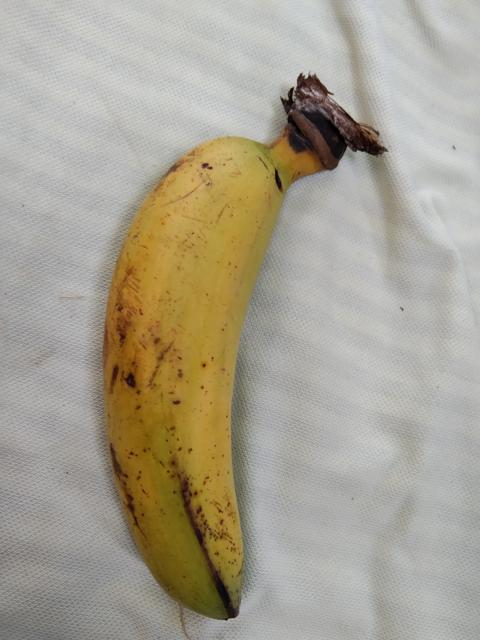ripe: (90, 124, 301, 631)
